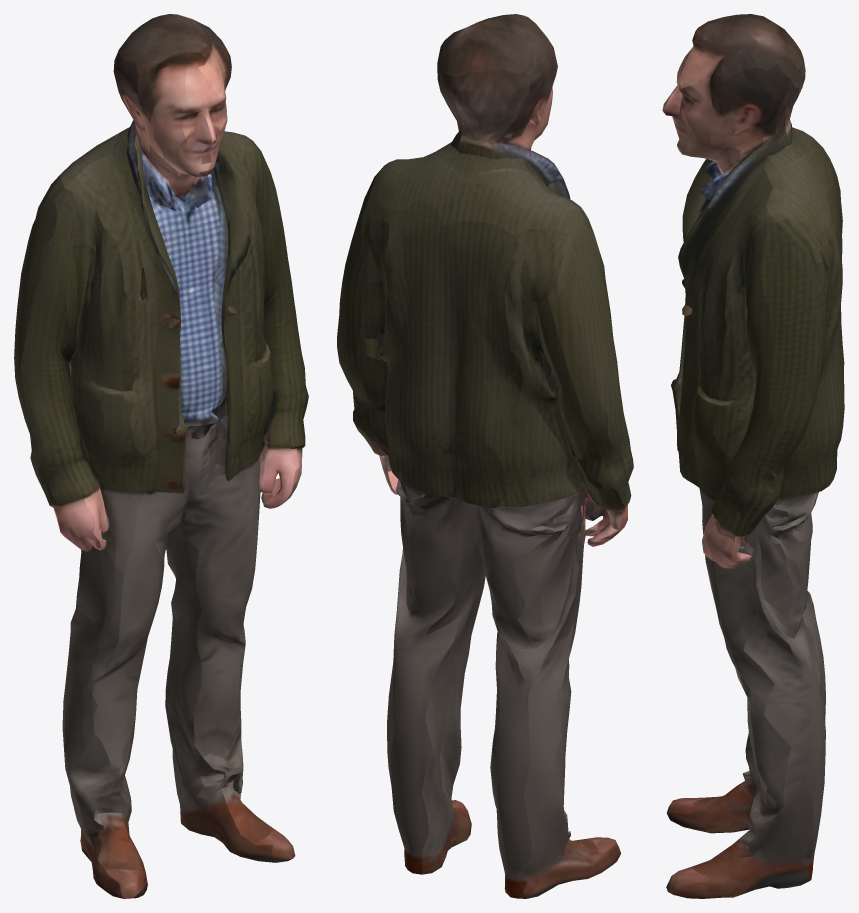
File: doppel_neighbour.glb
The picture shows the model from 3 angles, left to right: view 1: azimuth 30°, elevation 25°; view 2: azimuth 150°, elevation 25°; view 3: azimuth 270°, elevation 25°; orthographic projection.
Parts seen in each view (by area): view 1: geometry_0; view 2: geometry_0; view 3: geometry_0.
Boxes of the visible parts, x1,y1,x2,y2 form: geometry_0: (14,14,308,898); geometry_0: (337,14,633,898); geometry_0: (662,14,844,898).
Size of the model in its own units: 0.6147 by 1.78 by 0.3516.
Materials: 1 (1 with a texture image).
